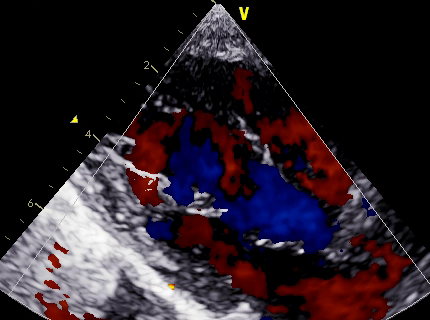AR: (196, 121, 272, 209)
